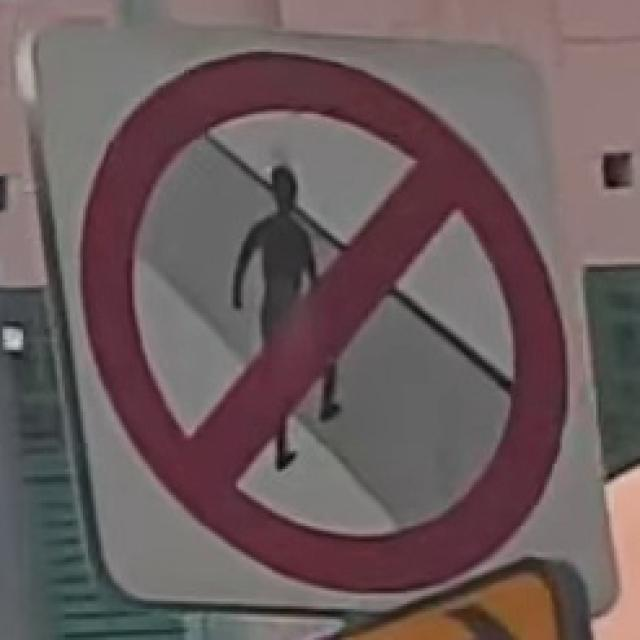nojaywalking_sign: (22, 17, 616, 618)
